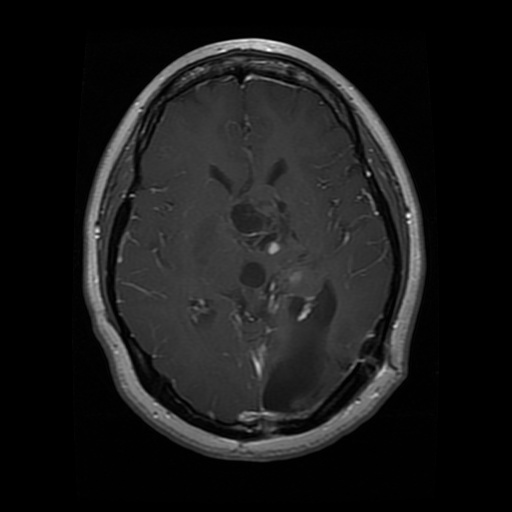glioma: (227, 250, 360, 416)
